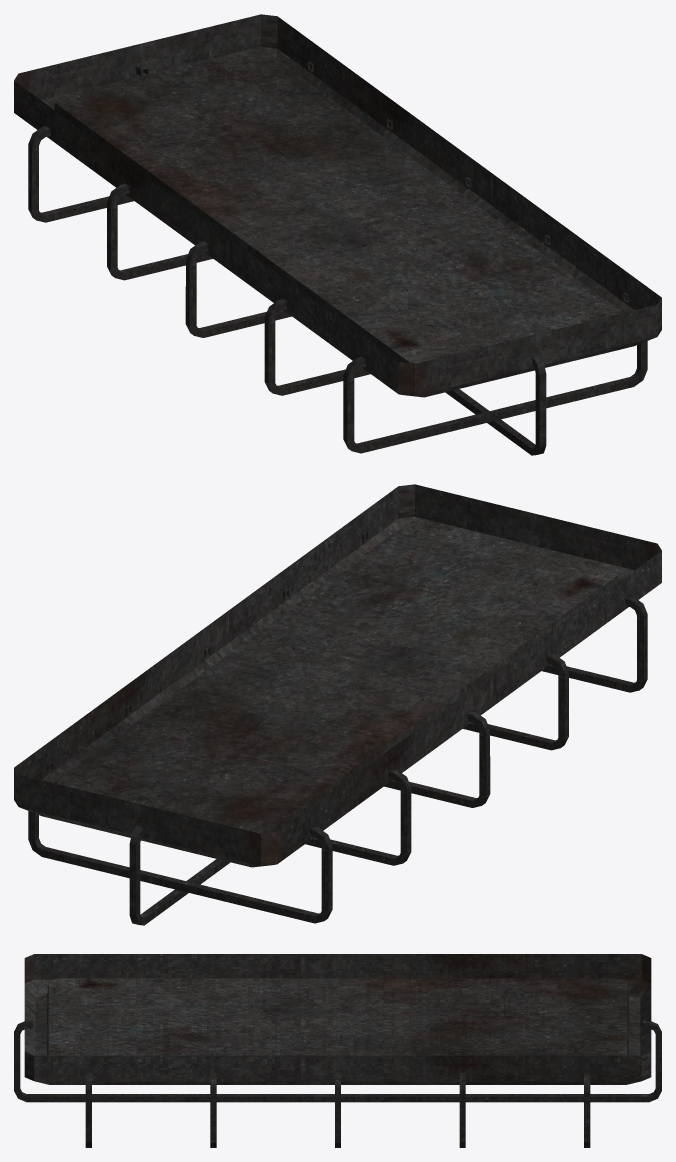
File: ceiling_lamp_2_on.glb
3 views of the same model, one above another, from view 1: azimuth 30°, elevation 25°; view 2: azimuth 150°, elevation 25°; view 3: azimuth 270°, elevation 25° (orthographic). The views are drawn at different scales.
Visible parts, largest first — view 1: ceiling_lamp_2_on, ceiling_lamp_2_on_protector; view 2: ceiling_lamp_2_on, ceiling_lamp_2_on_protector; view 3: ceiling_lamp_2_on, ceiling_lamp_2_on_protector.
Boxes of the visible parts, x1,y1,x2,y2 form: ceiling_lamp_2_on: (14,14,661,397); ceiling_lamp_2_on_protector: (28,61,647,455); ceiling_lamp_2_on: (14,484,661,867); ceiling_lamp_2_on_protector: (28,531,647,925); ceiling_lamp_2_on: (24,954,651,1084); ceiling_lamp_2_on_protector: (14,971,661,1147).
Bounding box in the file's own units: 0.44 × 0.17 × 1.04.
3 materials, 3 textured.
